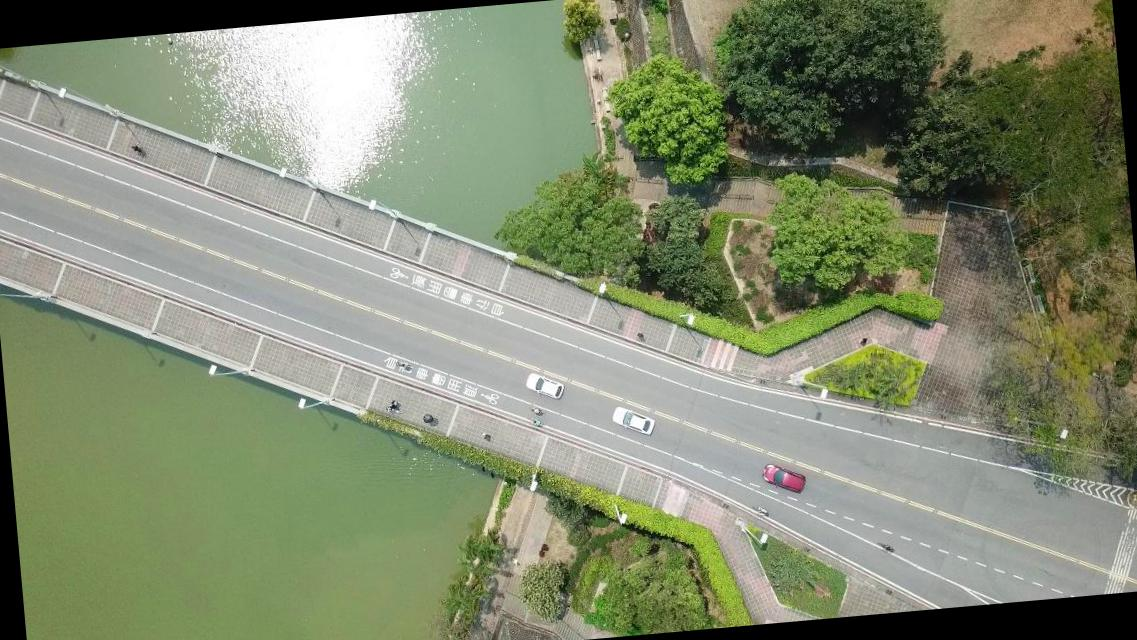vehicle: (760, 460, 808, 498), (611, 400, 656, 440), (523, 368, 566, 403)
